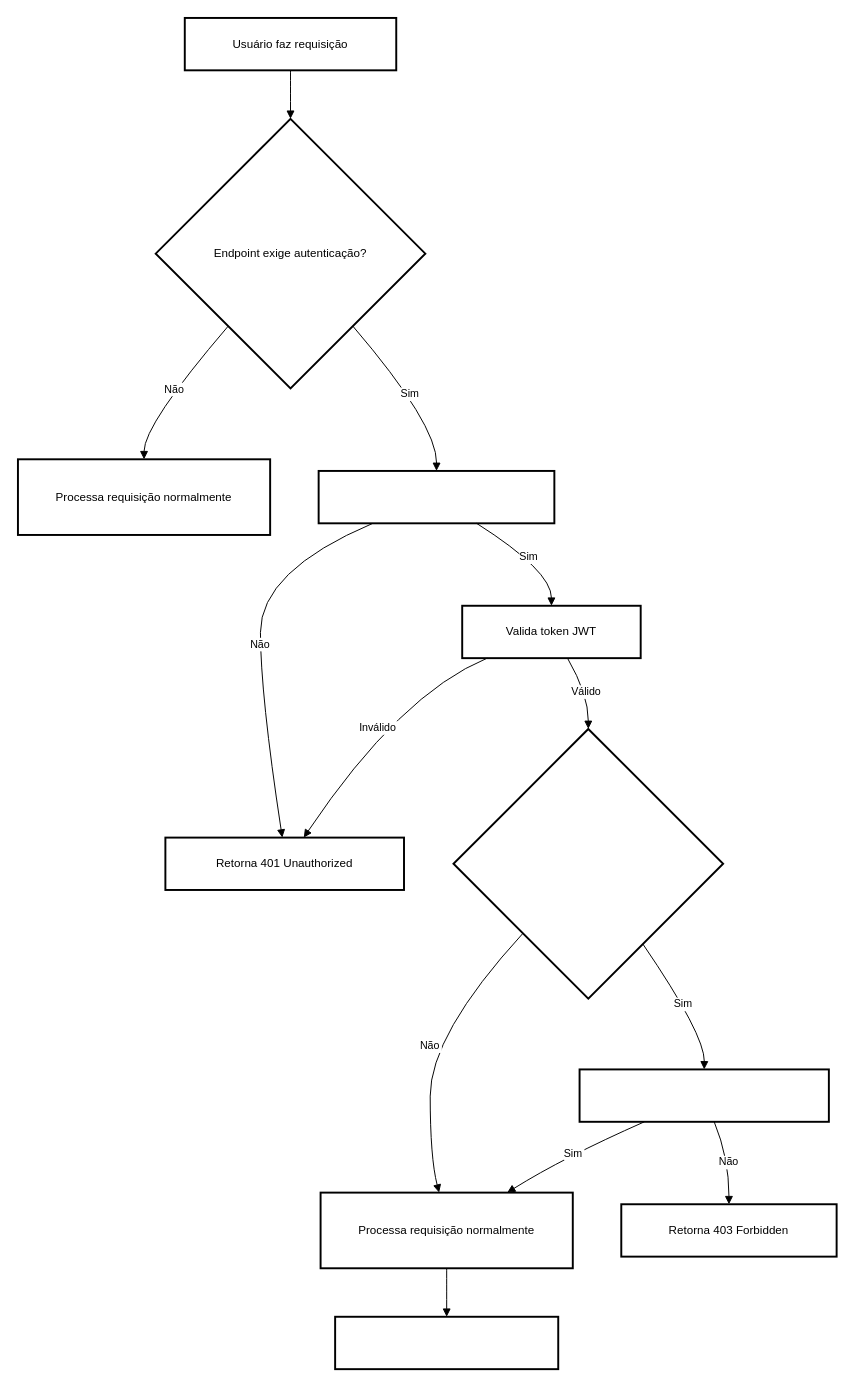
Image size: 854x1386. Some labels were removed from this diagram. Here are the shapes that lost their labels. From the top down, the centre of each, then its label:
At [436,496]: "Usuário envia token JWT?".
At [588,863]: "Endpoint exige role específica?".
At [703,1095]: "Usuário possui role exigida?".
At [446,1342]: "Retorna resposta da API".
